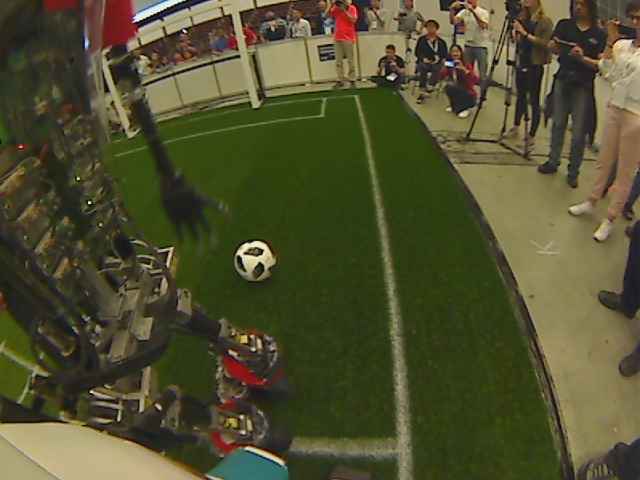ball: (232, 236, 276, 282)
